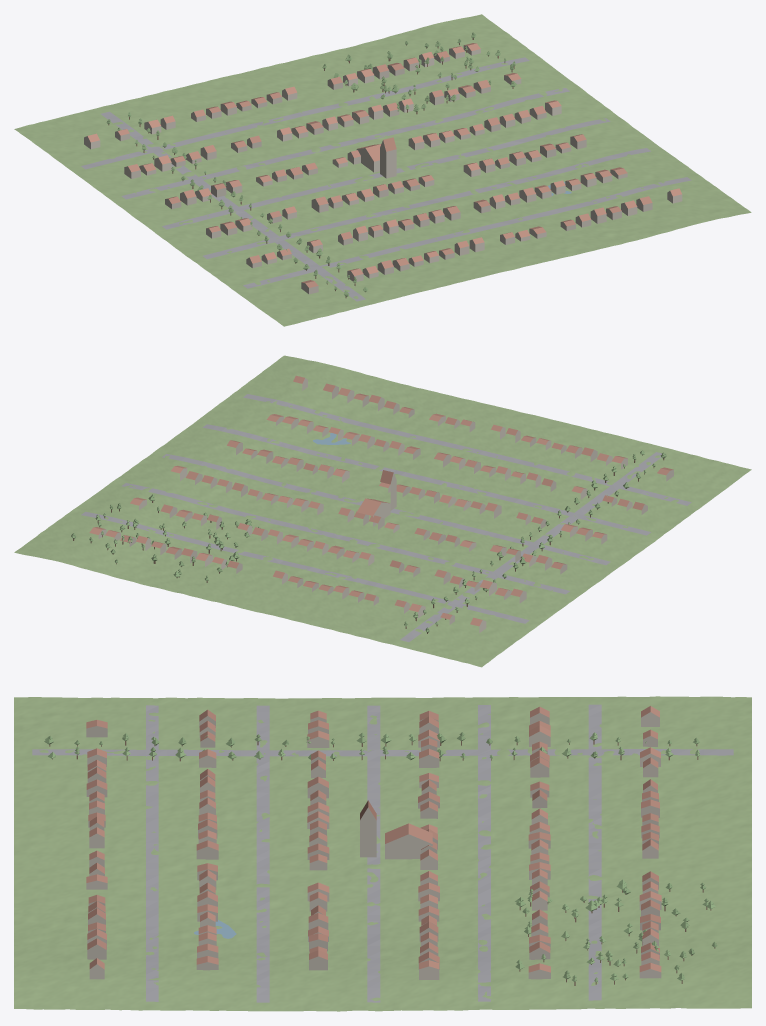
Rendered from demo.glb.
3 views of the same model, one above another, from view 1: azimuth 30°, elevation 25°; view 2: azimuth 150°, elevation 25°; view 3: azimuth 270°, elevation 25° (orthographic). The views are drawn at different scales.
Visible parts, largest first — view 1: class:grass, class:wall, class:road, class:roof, class:tree; view 2: class:grass, class:road, class:roof, class:wall, class:tree; view 3: class:grass, class:road, class:roof, class:wall, class:tree.
Part boxes in pixels (<box>): class:grass: <box>14,14,751,326</box>; class:wall: <box>84,45,682,294</box>; class:road: <box>81,57,691,301</box>; class:roof: <box>87,43,681,287</box>; class:tree: <box>106,32,516,296</box>; class:grass: <box>14,355,751,667</box>; class:road: <box>81,394,691,642</box>; class:roof: <box>89,375,673,626</box>; class:wall: <box>98,378,673,632</box>; class:tree: <box>71,450,666,632</box>; class:grass: <box>14,696,751,1011</box>; class:road: <box>32,704,733,1002</box>; class:roof: <box>86,706,661,972</box>; class:wall: <box>86,712,661,979</box>; class:tree: <box>44,732,717,982</box>.
Bounding box in the file's own units: 400 × 31.04 × 400.
